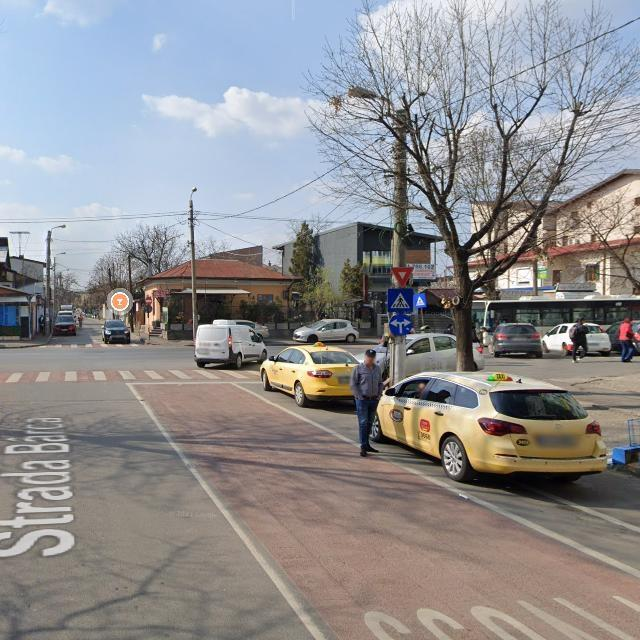info_crosswalk: (388, 288, 414, 314), (414, 294, 427, 308)
prio_give_way: (391, 266, 414, 289)
